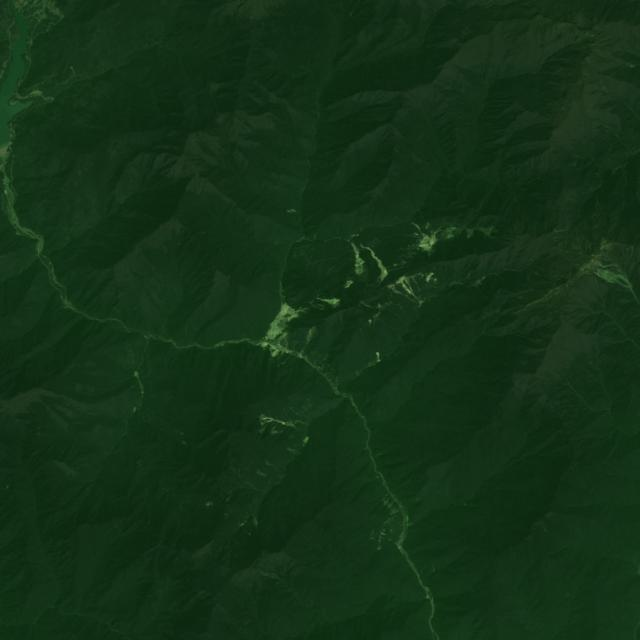landslides: (602, 270, 633, 291), (575, 311, 605, 328), (592, 253, 614, 264), (612, 163, 626, 176), (591, 220, 603, 232), (579, 215, 588, 229), (184, 140, 196, 150)
